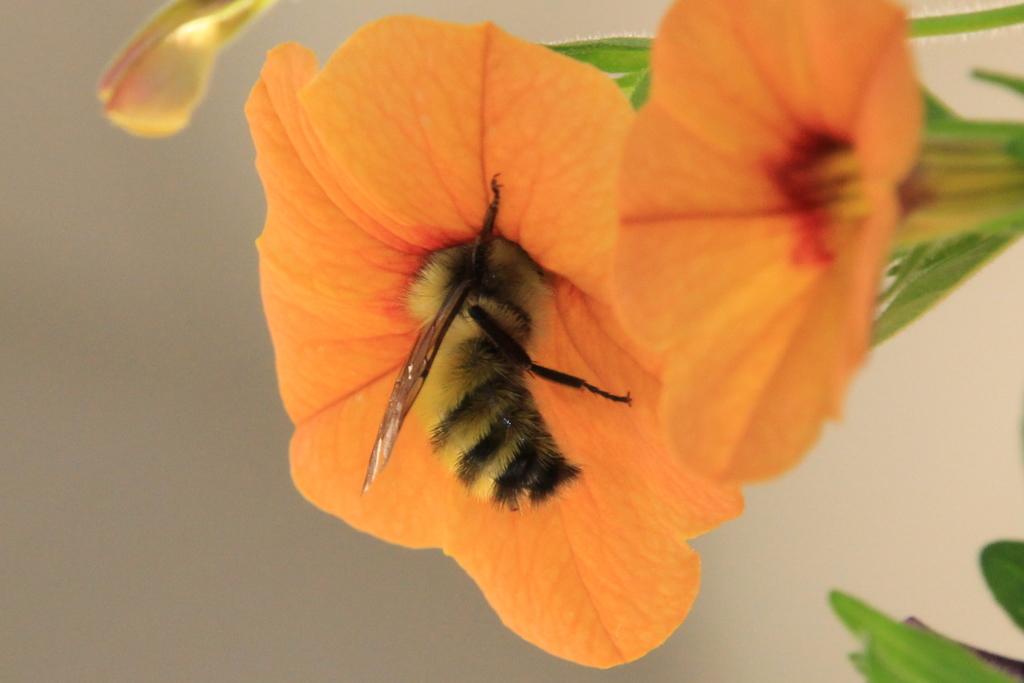bumblebee: (361, 173, 634, 516)
